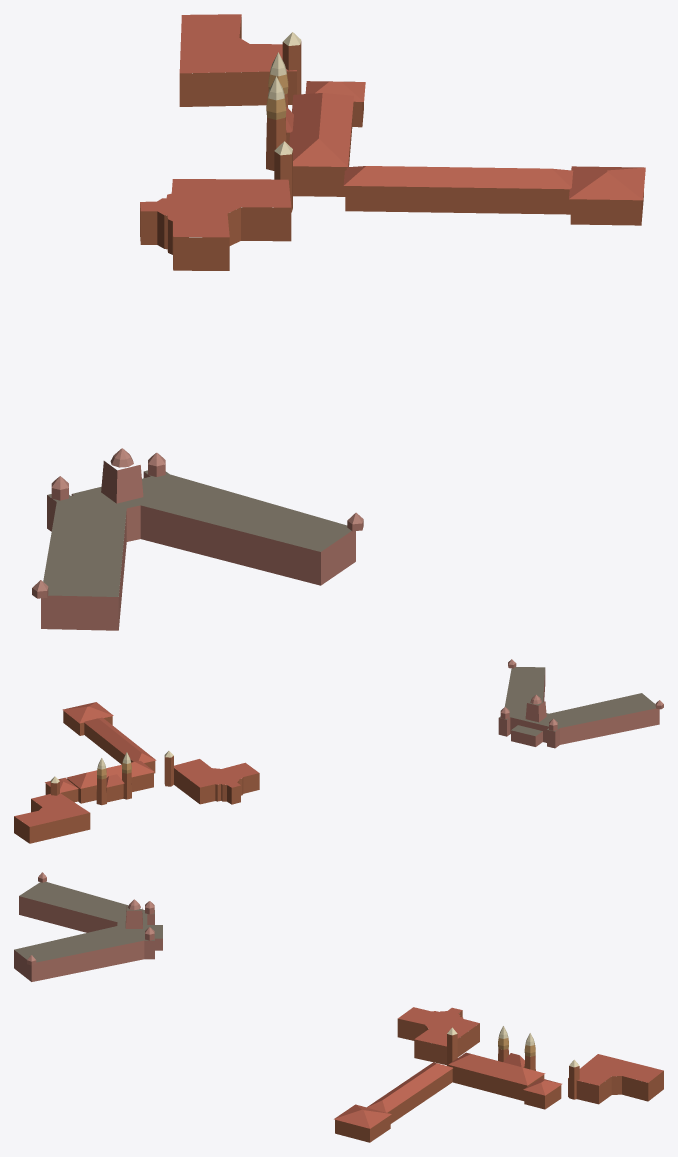
File: gpo_high_court_far.glb
3 renders of one model, top to bottom at view 1: azimuth 30°, elevation 25°; view 2: azimuth 150°, elevation 25°; view 3: azimuth 270°, elevation 25°, orthographic. The views are drawn at different scales.
Parts seen in each view (by area): view 1: m_hc_tile, m_hc_brick, m_flat_roof, m_gpo_brick, m_gpo_dome, m_hc_dome; view 2: m_hc_brick, m_hc_tile, m_flat_roof, m_gpo_brick; view 3: m_hc_brick, m_hc_tile, m_gpo_brick, m_flat_roof.
Part boxes in pixels (x1,y1,x2,y2): m_hc_tile: (140, 14, 645, 237); m_hc_brick: (140, 17, 643, 270); m_flat_roof: (43, 470, 351, 596); m_gpo_brick: (32, 461, 363, 630); m_gpo_dome: (32, 448, 363, 591); m_hc_dome: (268, 32, 301, 155); m_hc_brick: (14, 711, 259, 843); m_hc_tile: (14, 702, 258, 826); m_flat_roof: (499, 667, 655, 736); m_gpo_brick: (498, 663, 663, 748); m_hc_brick: (335, 1010, 663, 1142); m_hc_tile: (334, 1007, 663, 1128); m_gpo_brick: (14, 877, 162, 981); m_flat_roof: (14, 882, 162, 962).
Size of the model in its own units: 310 by 29.4 by 347.
